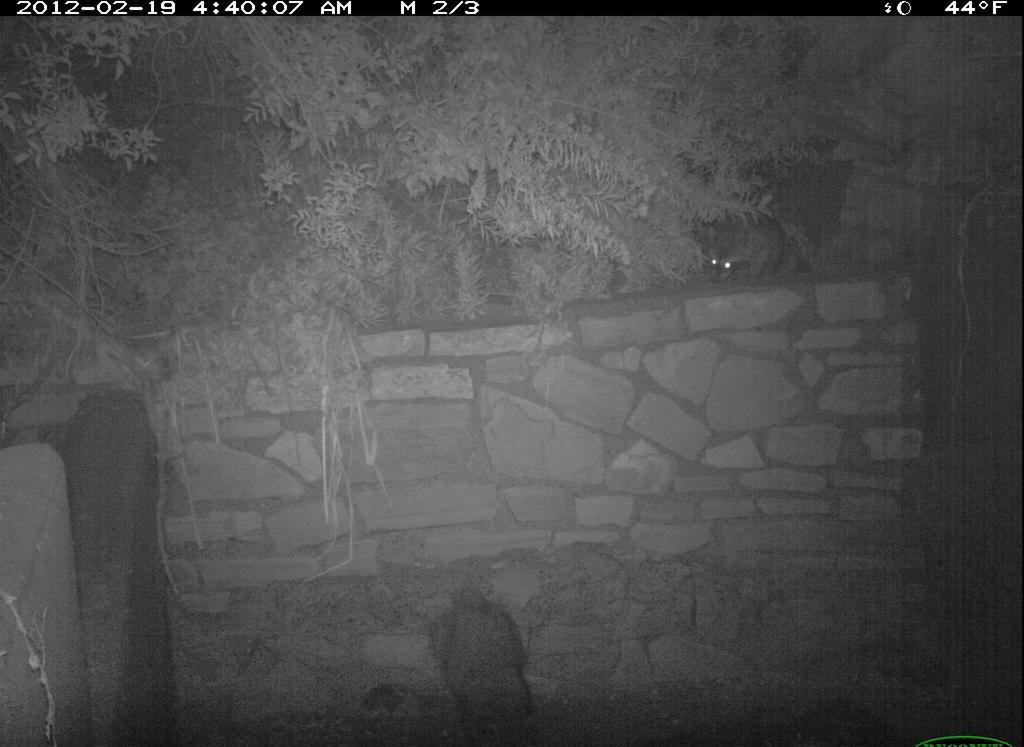raccoon: (431, 584, 553, 747), (688, 199, 795, 291)
